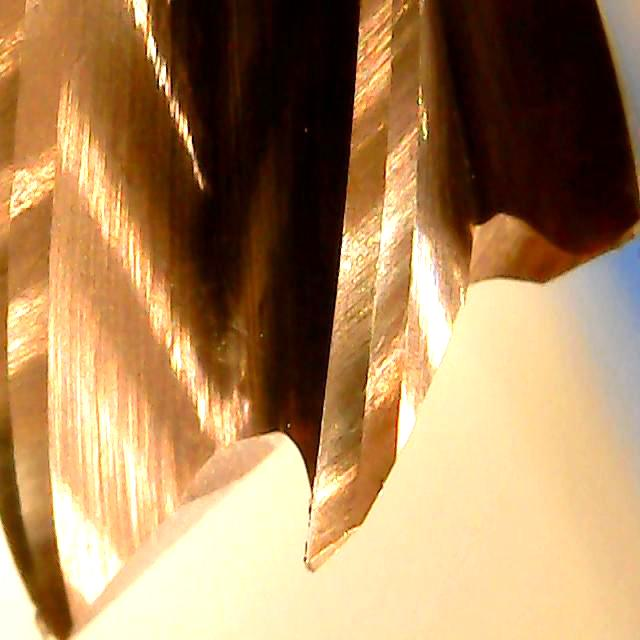Tool-wear-class-0: (289, 240, 426, 576)
